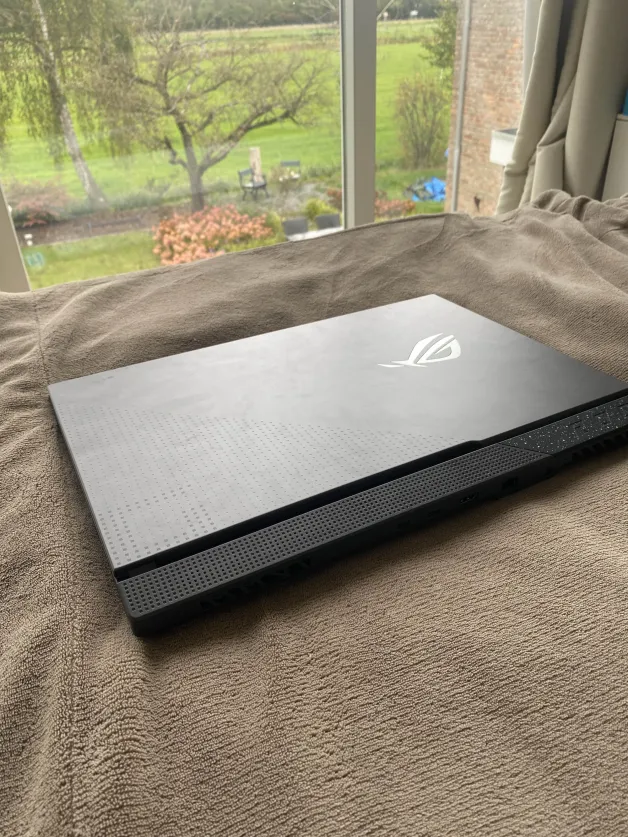laptop: (30, 265, 628, 682)
